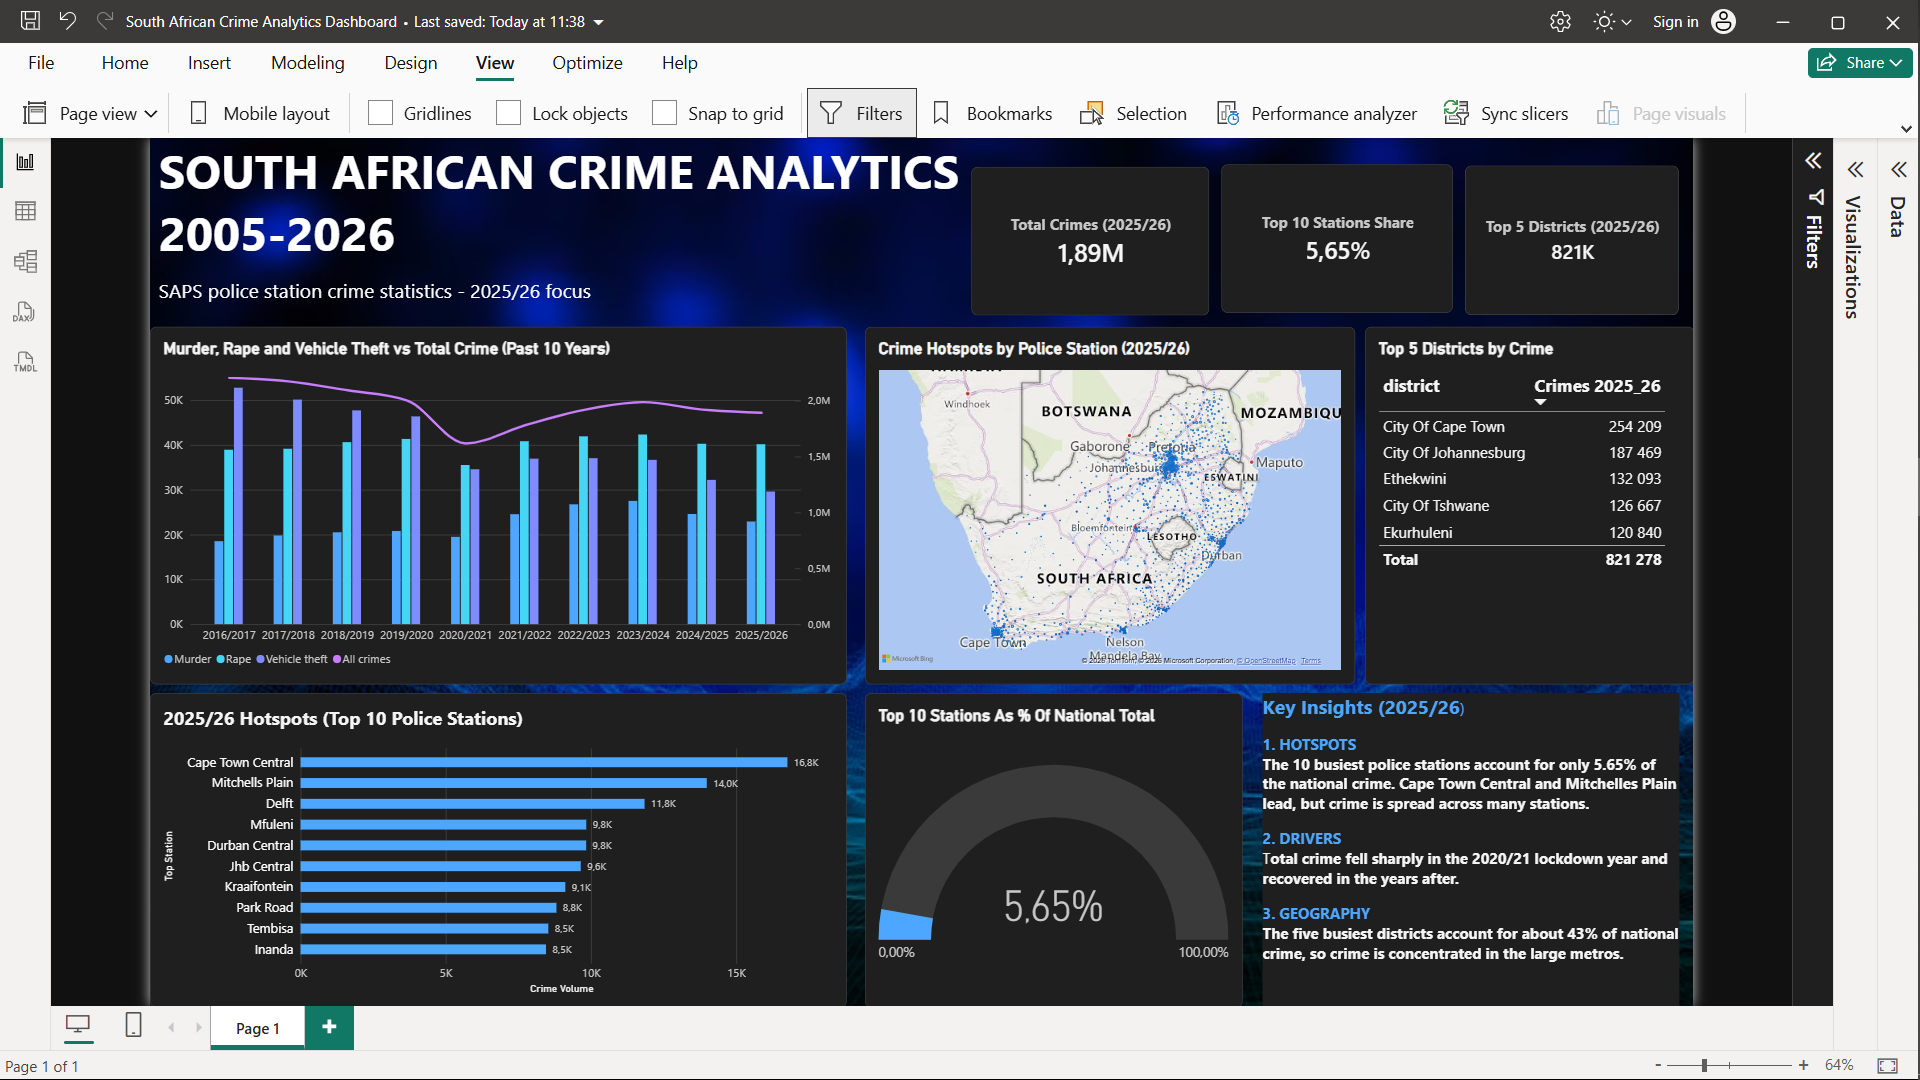

What the dashboard file says about the page in this screenshot:
{"tool":"powerbi","page":{"name":"Page 1","canvas":[1920,1080],"ordinal":0},"visuals":[{"type":"textbox","box":[10.3,0,1321.4,253.2],"z":0},{"type":"group","id":"g1","title":"Group 1","box":[1022,36,296,186],"z":1000},{"type":"clusteredBarChart","title":"2025/26 Hotspots (Top 10 Police Stations)","fields":{"Category":["sapacr-2005-2026-v1 5.station"],"Y":["_Measures.Crimes 2025_26"]},"box":[0,689.5,866.6,391.1],"z":2000},{"type":"cardVisual","fields":{"Data":["_Measures.Crimes 2025_26"]},"box":[1022,36,296.4,185.2],"z":3000,"group":"g1"},{"type":"gauge","title":"Top 10 Stations As % Of National Total","fields":{"Y":["_Measures.Top 10 % Share"]},"box":[889.2,689.5,469.3,391.1],"z":3000},{"type":"lineClusteredColumnComboChart","title":"Murder, Rape and Vehicle Theft vs Total Crime (Past 10 Years)","fields":{"Category":["sapacr-2005-2026-v1 5.year"],"Y":["Sum(sapacr-2005-2026-v1 5.murder)","Sum(sapacr-2005-2026-v1 5.rape)","Sum(sapacr-2005-2026-v1 5.vehicle_theft)"],"Y2":["_Measures.Total Crimes"]},"box":[0,234.6,866.6,444.6],"z":4000},{"type":"map","title":"Crime Hotspots by Police Station (2025/26)","fields":{"Category":["sapacr-2005-2026-v1 5.station"],"Size":["_Measures.Crimes 2025_26"],"X":["Avg(sapacr-2005-2026-v1 5.longitude)"],"Y":["Avg(sapacr-2005-2026-v1 5.latitude)"]},"box":[889.2,234.6,609.3,444.6],"z":5000},{"type":"tableEx","title":"Top 5 Districts by Crime","fields":{"Values":["sapacr-2005-2026-v1 5.district","_Measures.Crimes 2025_26"]},"box":[1510.8,234.6,409.6,444.6],"z":6000},{"type":"cardVisual","fields":{"Data":["_Measures.Top 10 % Share"]},"box":[1332,32,288.2,185.2],"z":7000},{"type":"textbox","box":[1384,690,518,390],"z":8000},{"type":"cardVisual","fields":{"Data":["_Measures.Top 5 Districts"]},"box":[1636,34,266,186],"z":9000}]}

Visuals, with their boxes on the page's 1920x1080 design canvas (x1, y1, x2, y2). These are canvas units, not pixel positions in the 1920x1080 screenshot, which may show the page scaled, cropped or inside an application window:
textbox: {"left": 10, "top": 0, "right": 1332, "bottom": 253}
"Group 1" group: {"left": 1022, "top": 36, "right": 1318, "bottom": 222}
"2025/26 Hotspots (Top 10 Police Stations)" clusteredBarChart: {"left": 0, "top": 690, "right": 867, "bottom": 1081}
cardVisual - _Measures.Crimes 2025_26: {"left": 1022, "top": 36, "right": 1318, "bottom": 221}
"Top 10 Stations As % Of National Total" gauge: {"left": 889, "top": 690, "right": 1358, "bottom": 1081}
"Murder, Rape and Vehicle Theft vs Total Crime (Past 10 Years)" lineClusteredColumnComboChart: {"left": 0, "top": 235, "right": 867, "bottom": 679}
"Crime Hotspots by Police Station (2025/26)" map: {"left": 889, "top": 235, "right": 1498, "bottom": 679}
"Top 5 Districts by Crime" tableEx: {"left": 1511, "top": 235, "right": 1920, "bottom": 679}
cardVisual - _Measures.Top 10 % Share: {"left": 1332, "top": 32, "right": 1620, "bottom": 217}
textbox: {"left": 1384, "top": 690, "right": 1902, "bottom": 1080}
cardVisual - _Measures.Top 5 Districts: {"left": 1636, "top": 34, "right": 1902, "bottom": 220}
